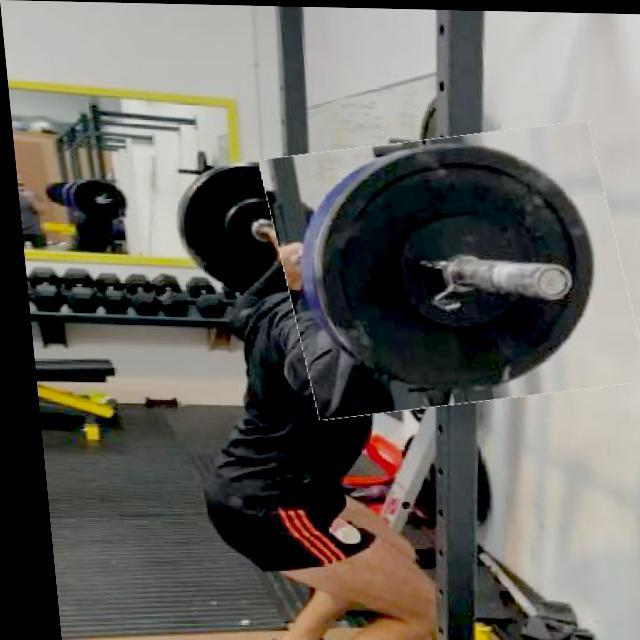barbell: (262, 124, 637, 415)
